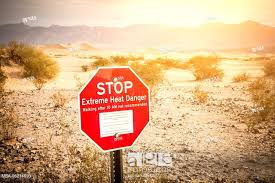Stop: (84, 66, 150, 116)
